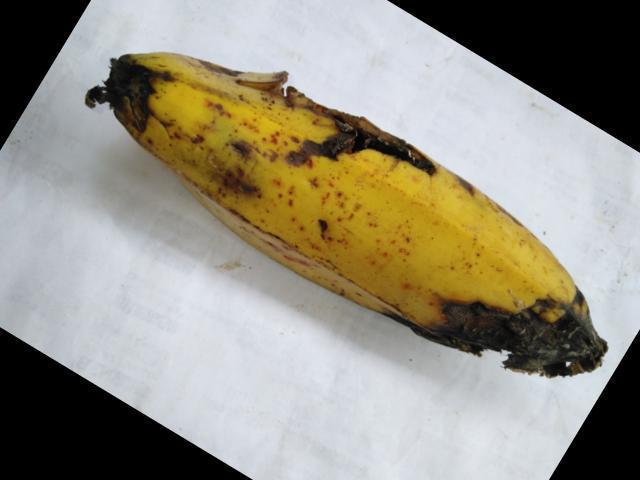rotten: (319, 258, 639, 420), (203, 31, 489, 205), (64, 25, 186, 184)
